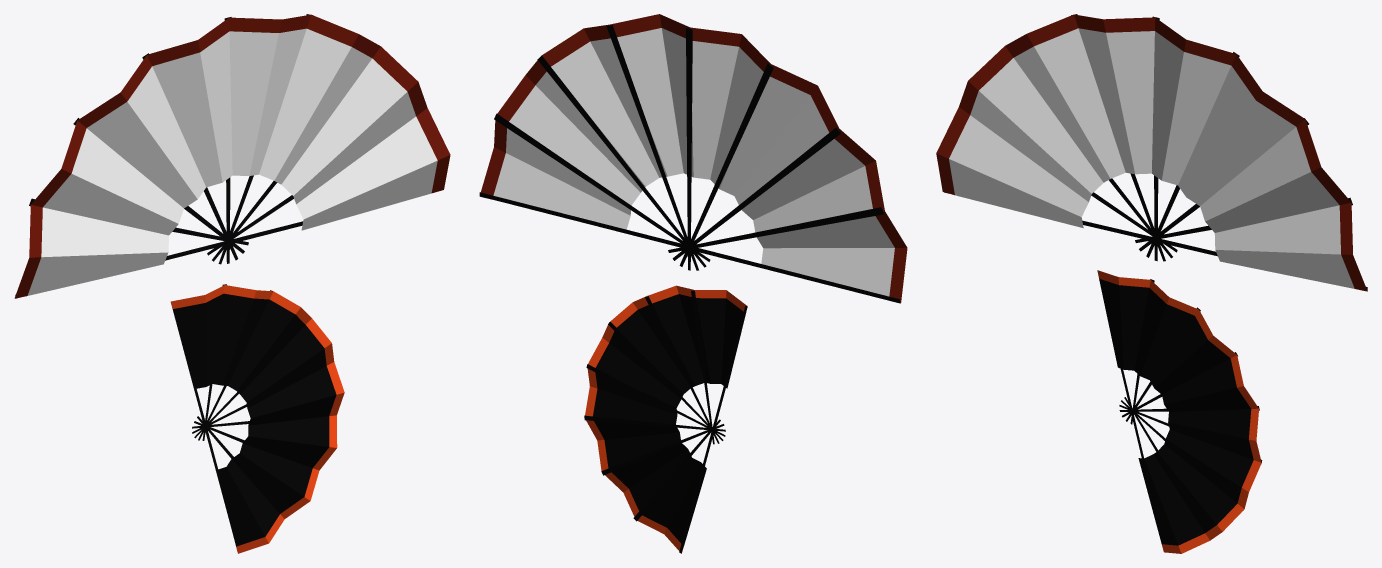
Rendered from japan_fan.glb.
The picture shows the model from 3 angles, left to right: view 1: azimuth 30°, elevation 25°; view 2: azimuth 150°, elevation 25°; view 3: azimuth 330°, elevation 25°; orthographic projection.
Visible parts, largest first — view 1: Fan_1; view 2: Fan_1; view 3: Fan_1.
Part boxes in pixels (<box>): Fan_1: <box>14,14,450,553</box>; Fan_1: <box>479,14,907,553</box>; Fan_1: <box>936,14,1367,553</box>.
Bounding box in the file's own units: 2.51 × 3.01 × 0.1224.
1 material, 1 textured.
